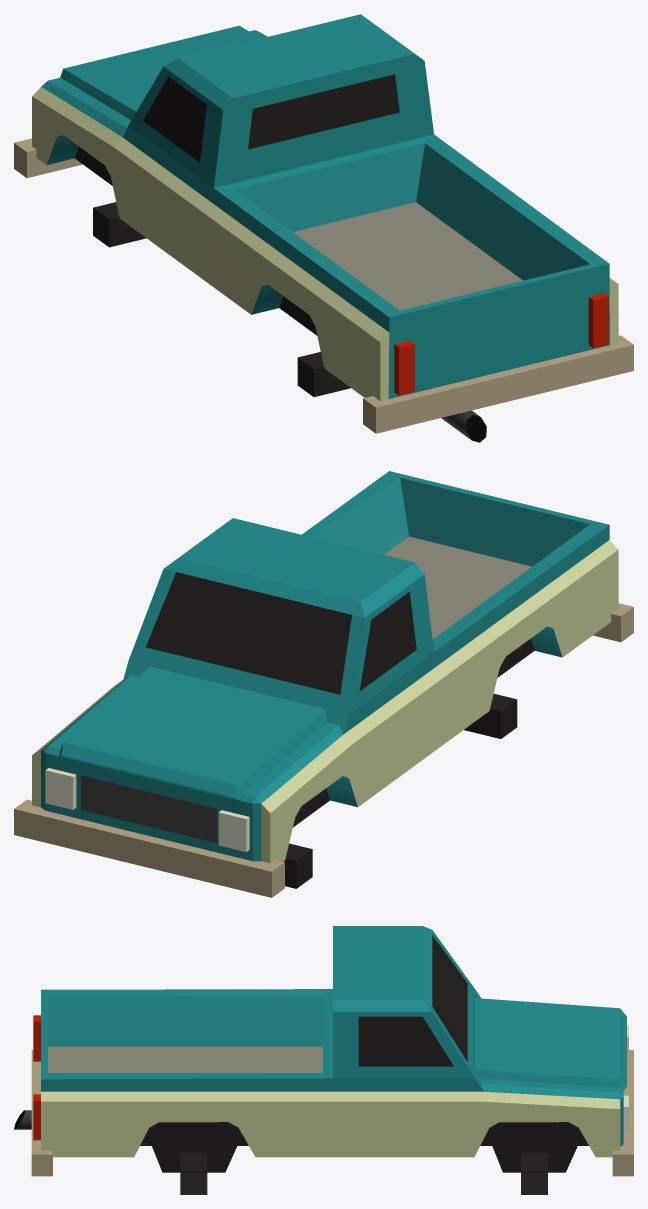
Rendered from pickup.fbx.
3 views of the same model, one above another, from view 1: azimuth 30°, elevation 25°; view 2: azimuth 150°, elevation 25°; view 3: azimuth 270°, elevation 25° (orthographic). The views are drawn at different scales.
Visible parts, largest first — view 1: pickup; view 2: pickup; view 3: pickup.
Part boxes in pixels (<box>): pickup: <box>14,14,633,442</box>; pickup: <box>14,471,633,897</box>; pickup: <box>14,926,633,1194</box>.
Size of the model in its own units: 208 by 177 by 521.
